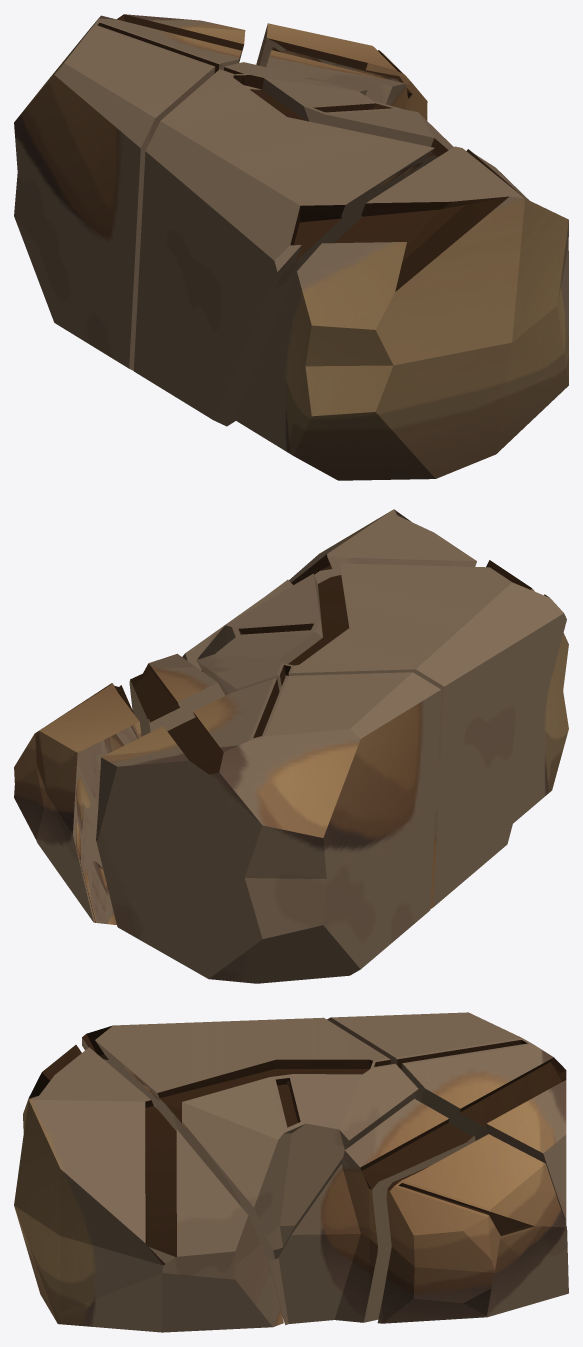
Rendered from BrokenRock.fbx.
3 views of the same model, one above another, from view 1: azimuth 30°, elevation 25°; view 2: azimuth 150°, elevation 25°; view 3: azimuth 270°, elevation 25° (orthographic). The views are drawn at different scales.
Parts seen in each view (by area): view 1: Cube_cell.001; view 2: Cube_cell.001; view 3: Cube_cell.001.
Part boxes in pixels (x1,y1,x2,y2): Cube_cell.001: (14,14,568,480); Cube_cell.001: (14,509,568,983); Cube_cell.001: (14,1012,568,1332).
Size of the model in its own units: 92.29 by 65.2 by 143.
